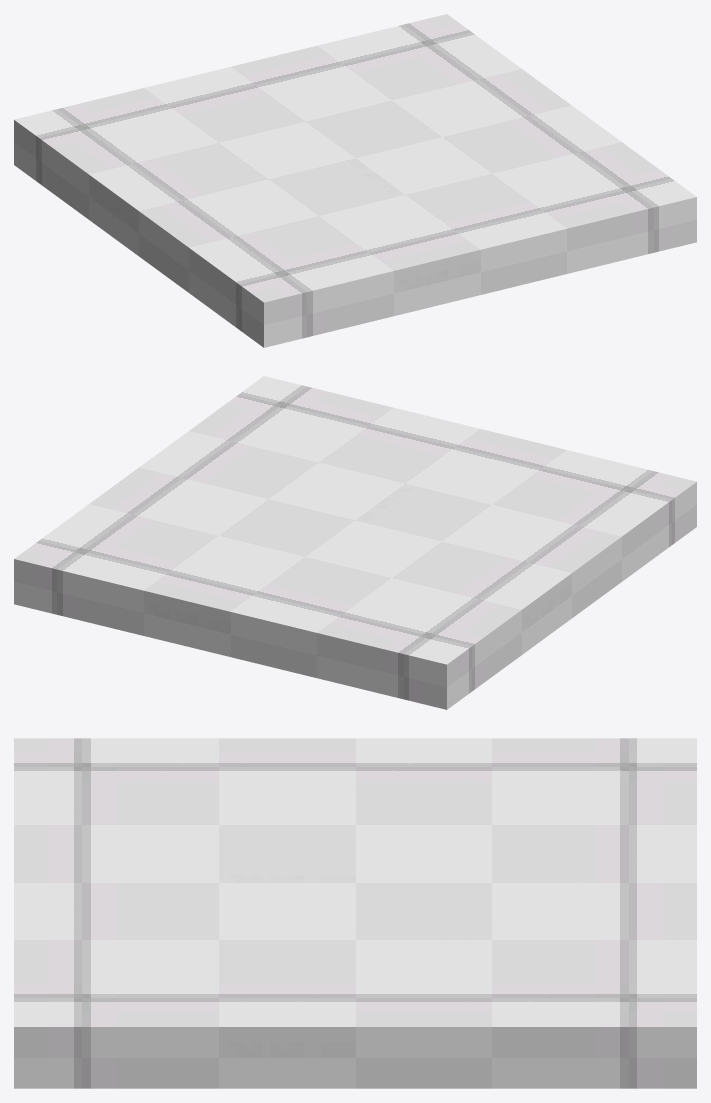
File: CitWards_Flr5m_A.FBX
3 renders of one model, top to bottom at view 1: azimuth 30°, elevation 25°; view 2: azimuth 150°, elevation 25°; view 3: azimuth 270°, elevation 25°, orthographic. The views are drawn at different scales.
Visible parts, largest first — view 1: CitWards_Flr5m_A; view 2: CitWards_Flr5m_A; view 3: CitWards_Flr5m_A.
Part boxes in pixels (left/top/right/bottom): CitWards_Flr5m_A: left=14, top=14, right=696, bottom=347; CitWards_Flr5m_A: left=14, top=376, right=696, bottom=709; CitWards_Flr5m_A: left=14, top=738, right=696, bottom=1088.
Size of the model in its own units: 5 by 0.5 by 5.
